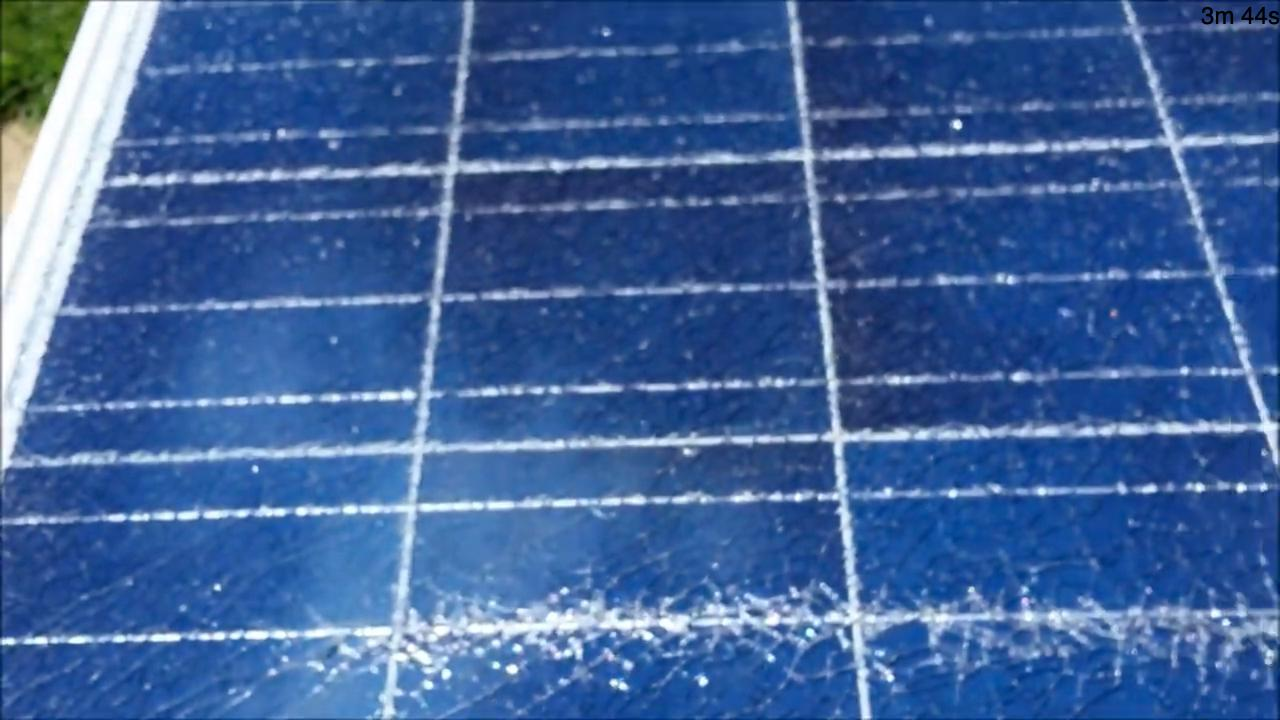Crack: (403, 559, 1263, 684)
